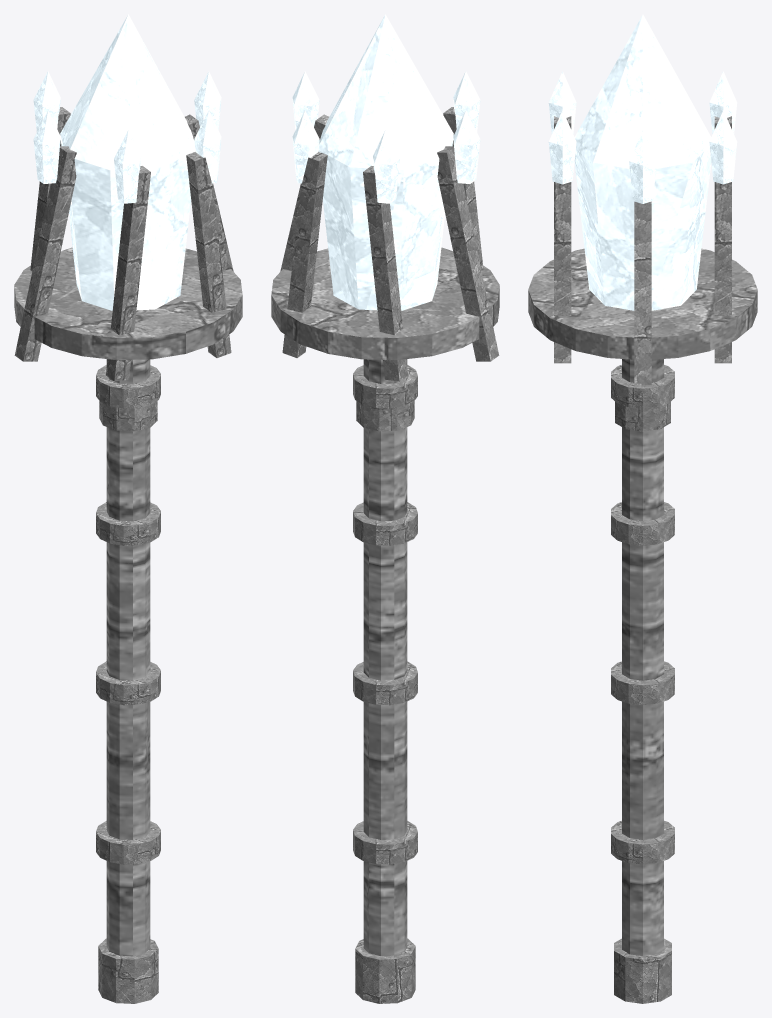
The model's file is Magenheim_Staff_Storm_Master.glb.
The picture shows the model from 3 angles, left to right: view 1: azimuth 30°, elevation 25°; view 2: azimuth 150°, elevation 25°; view 3: azimuth 270°, elevation 25°; orthographic projection.
Visible parts, largest first — view 1: thunderhead-core, shaft, storm-halo, antenna-3, antenna-2, antenna-1, pommel, shaft-ring--0.48, shaft-ring-0.55, shaft-ring-0.24, shaft-ring--0.12, antenna-tip-3 (+7 smaller); view 2: thunderhead-core, shaft, storm-halo, antenna-3, antenna-4, antenna-5, pommel, shaft-ring--0.48, shaft-ring-0.55, shaft-ring-0.24, shaft-ring--0.12, antenna-tip-3 (+7 smaller); view 3: thunderhead-core, shaft, storm-halo, antenna-0, pommel, antenna-1, antenna-5, shaft-ring--0.48, shaft-ring-0.24, shaft-ring--0.12, shaft-ring-0.55, antenna-tip-0 (+5 smaller).
Boxes of the visible parts, box(x1,y1,x2,y2) form: thunderhead-core: box(60, 14, 195, 310); shaft: box(106, 359, 150, 956); storm-halo: box(14, 247, 242, 360); antenna-3: box(14, 146, 76, 361); antenna-2: box(106, 166, 150, 381); antenna-1: box(186, 152, 231, 357); pommel: box(98, 938, 158, 1003); shaft-ring--0.48: box(96, 821, 160, 864); shaft-ring-0.55: box(96, 365, 160, 408); shaft-ring-0.24: box(96, 502, 160, 545); shaft-ring--0.12: box(96, 661, 160, 705); antenna-tip-3: box(33, 110, 60, 183); thunderhead-core: box(318, 14, 453, 310); shaft: box(363, 359, 407, 956); storm-halo: box(271, 247, 499, 360); antenna-3: box(437, 146, 499, 361); antenna-4: box(363, 166, 407, 381); antenna-5: box(282, 152, 327, 357); pommel: box(355, 938, 415, 1003); shaft-ring--0.48: box(353, 821, 417, 864); shaft-ring-0.55: box(353, 365, 417, 408); shaft-ring-0.24: box(353, 502, 417, 545); shaft-ring--0.12: box(353, 661, 417, 705); antenna-tip-3: box(453, 110, 480, 183); thunderhead-core: box(574, 14, 711, 310); shaft: box(622, 359, 663, 955); storm-halo: box(528, 248, 757, 359); antenna-0: box(634, 201, 651, 385); pommel: box(614, 938, 671, 1003); antenna-1: box(554, 182, 571, 363); antenna-5: box(714, 182, 731, 363); shaft-ring--0.48: box(611, 820, 674, 864); shaft-ring-0.24: box(611, 502, 674, 545); shaft-ring--0.12: box(611, 661, 674, 704); shaft-ring-0.55: box(611, 365, 674, 408); antenna-tip-0: box(629, 130, 656, 203).
Size of the model in its own units: 0.5176 by 2.21 by 0.47.
3 materials, 3 textured.
